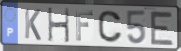5: (126, 10, 148, 46)
C: (97, 9, 124, 44)
E: (149, 9, 175, 47)
F: (75, 9, 95, 43)
H: (47, 7, 71, 44)
K: (23, 7, 42, 42)
